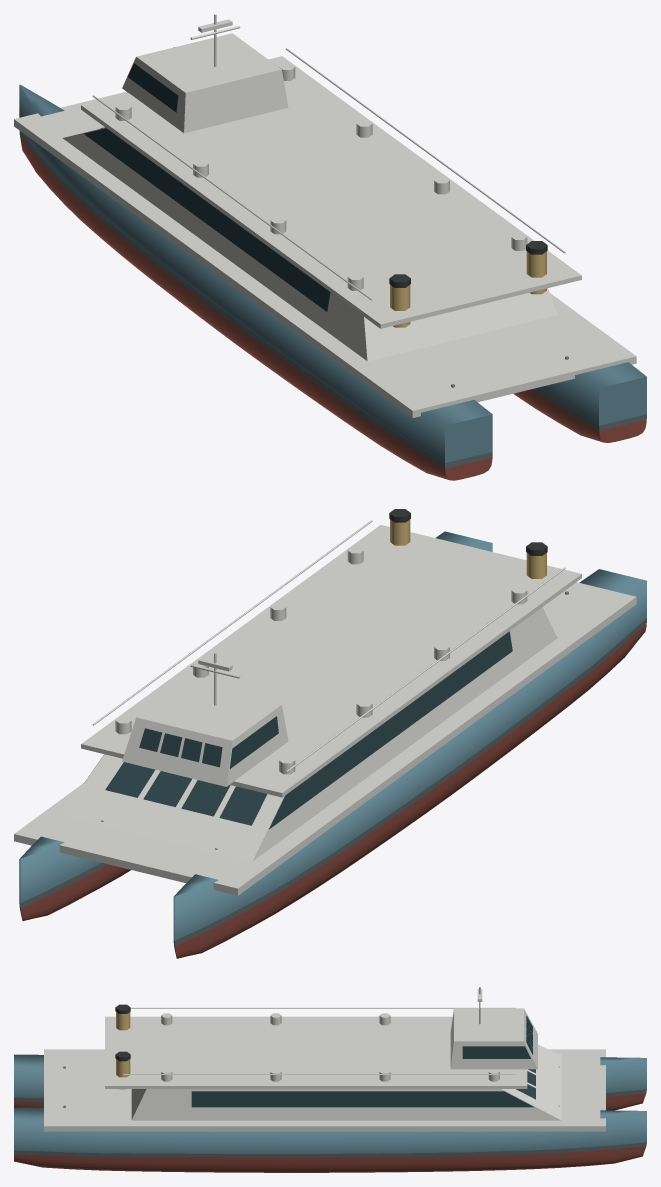
File: ferry-low.glb
The picture shows the model from 3 angles, top to bottom: view 1: azimuth 30°, elevation 25°; view 2: azimuth 150°, elevation 25°; view 3: azimuth 270°, elevation 25°; orthographic projection. The views are drawn at different scales.
Parts seen in each view (by area): view 1: white, hull, bottom, window, stripe, ochre; view 2: white, hull, window, bottom, stripe, ochre; view 3: white, hull, bottom, window, stripe, ochre.
Part boxes in pixels (x1,y1,x2,y2): white: (14,14,636,417); hull: (19,47,646,463); bottom: (20,135,646,480); window: (84,63,330,311); stripe: (19,131,646,468); ochre: (390,251,546,327); white: (14,520,636,895); hull: (19,531,646,940); window: (84,631,512,829); bottom: (20,624,646,958); stripe: (19,618,646,946); ochre: (390,519,546,578); white: (44,987,605,1131); hull: (14,1054,646,1153); bottom: (14,1093,646,1172); window: (191,1016,535,1107); stripe: (14,1089,646,1157); ochre: (116,1012,130,1089).
Bounding box in the file's own units: 16.7 × 15.4 × 58.
